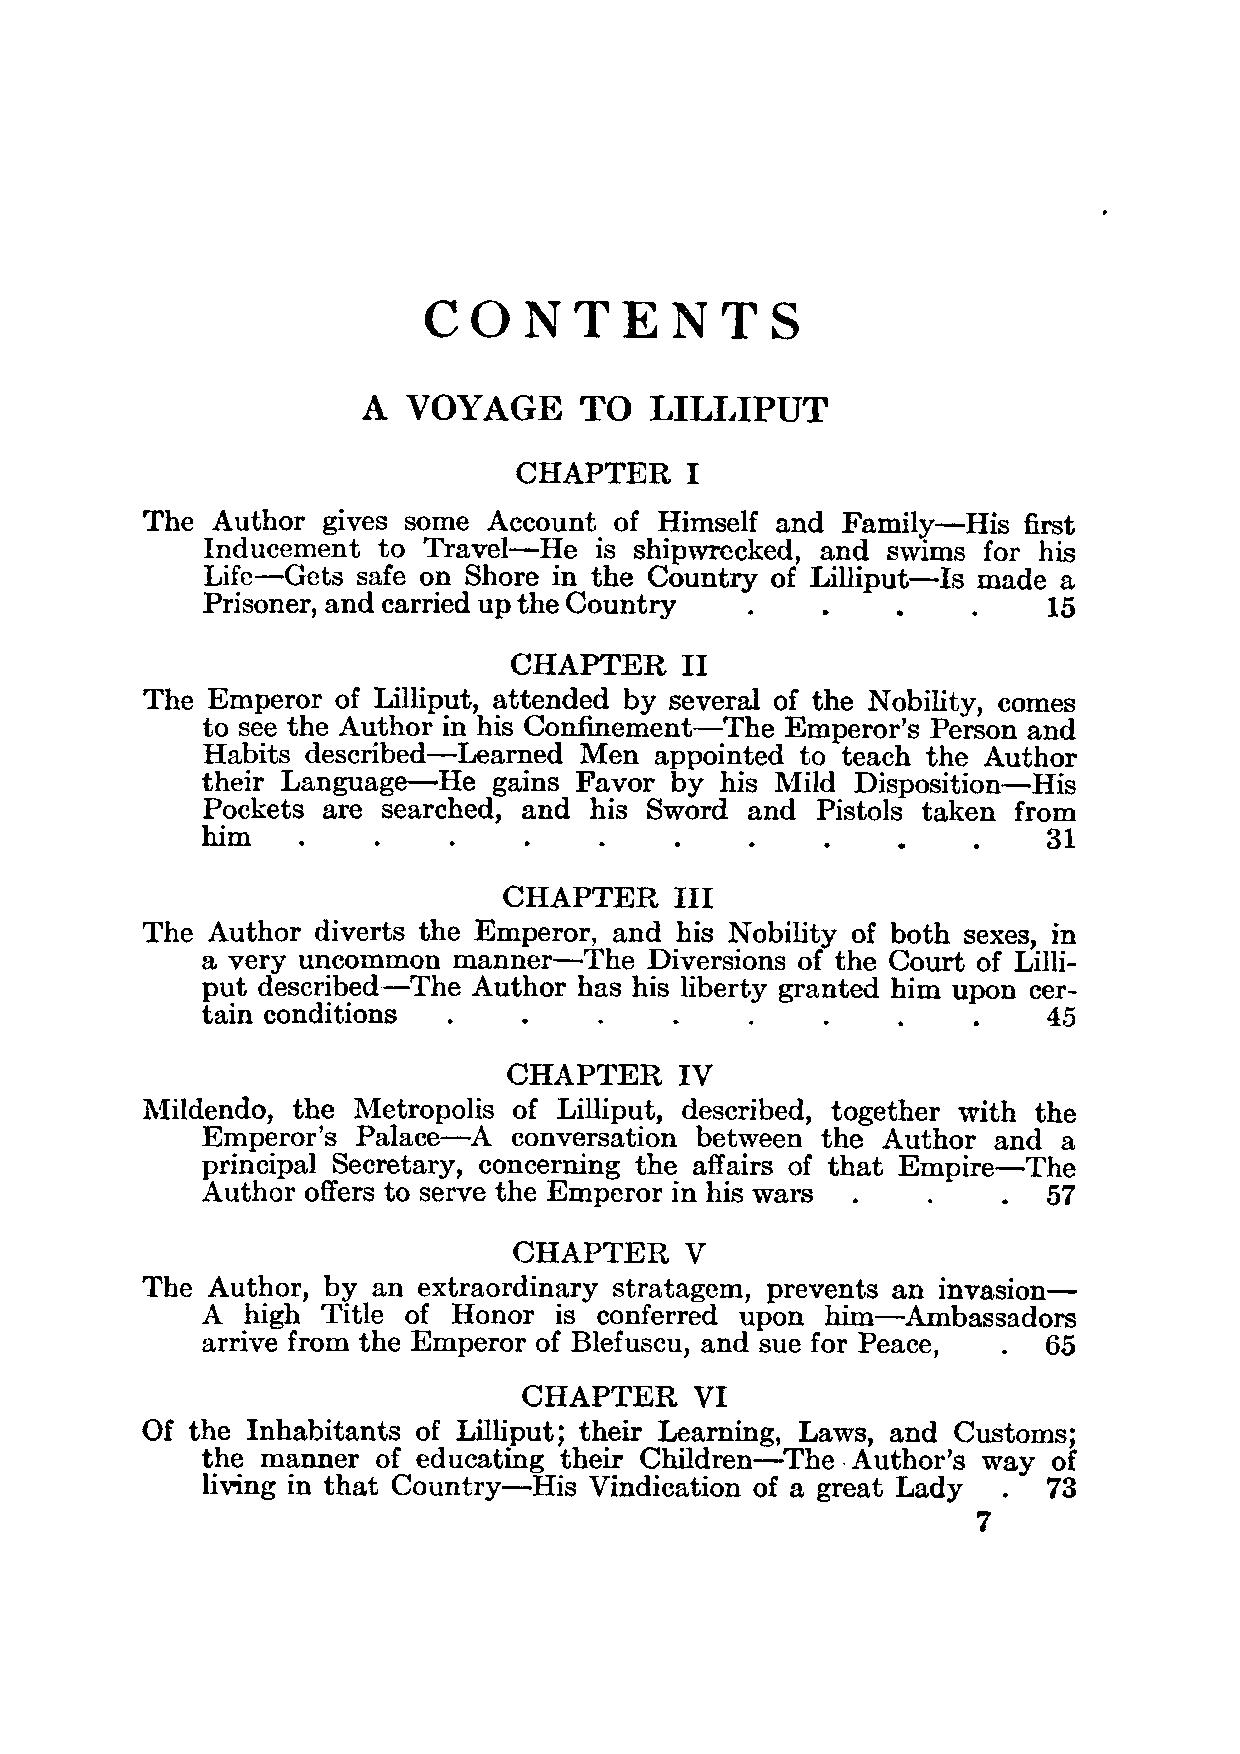TOC_chapter: (138, 650, 1080, 851), (142, 454, 1088, 620), (140, 1059, 1080, 1208), (140, 883, 1082, 1029), (140, 1381, 1076, 1503), (140, 1237, 1076, 1355)
TOC_pagenumber: (1045, 595, 1080, 621), (1045, 1475, 1079, 1500), (1041, 1184, 1078, 1206), (1041, 1333, 1078, 1355), (1044, 827, 1078, 849), (1044, 1004, 1078, 1027)
chapter: (417, 293, 804, 342), (360, 386, 831, 425)
content_pagenumber: (969, 1508, 994, 1533)
